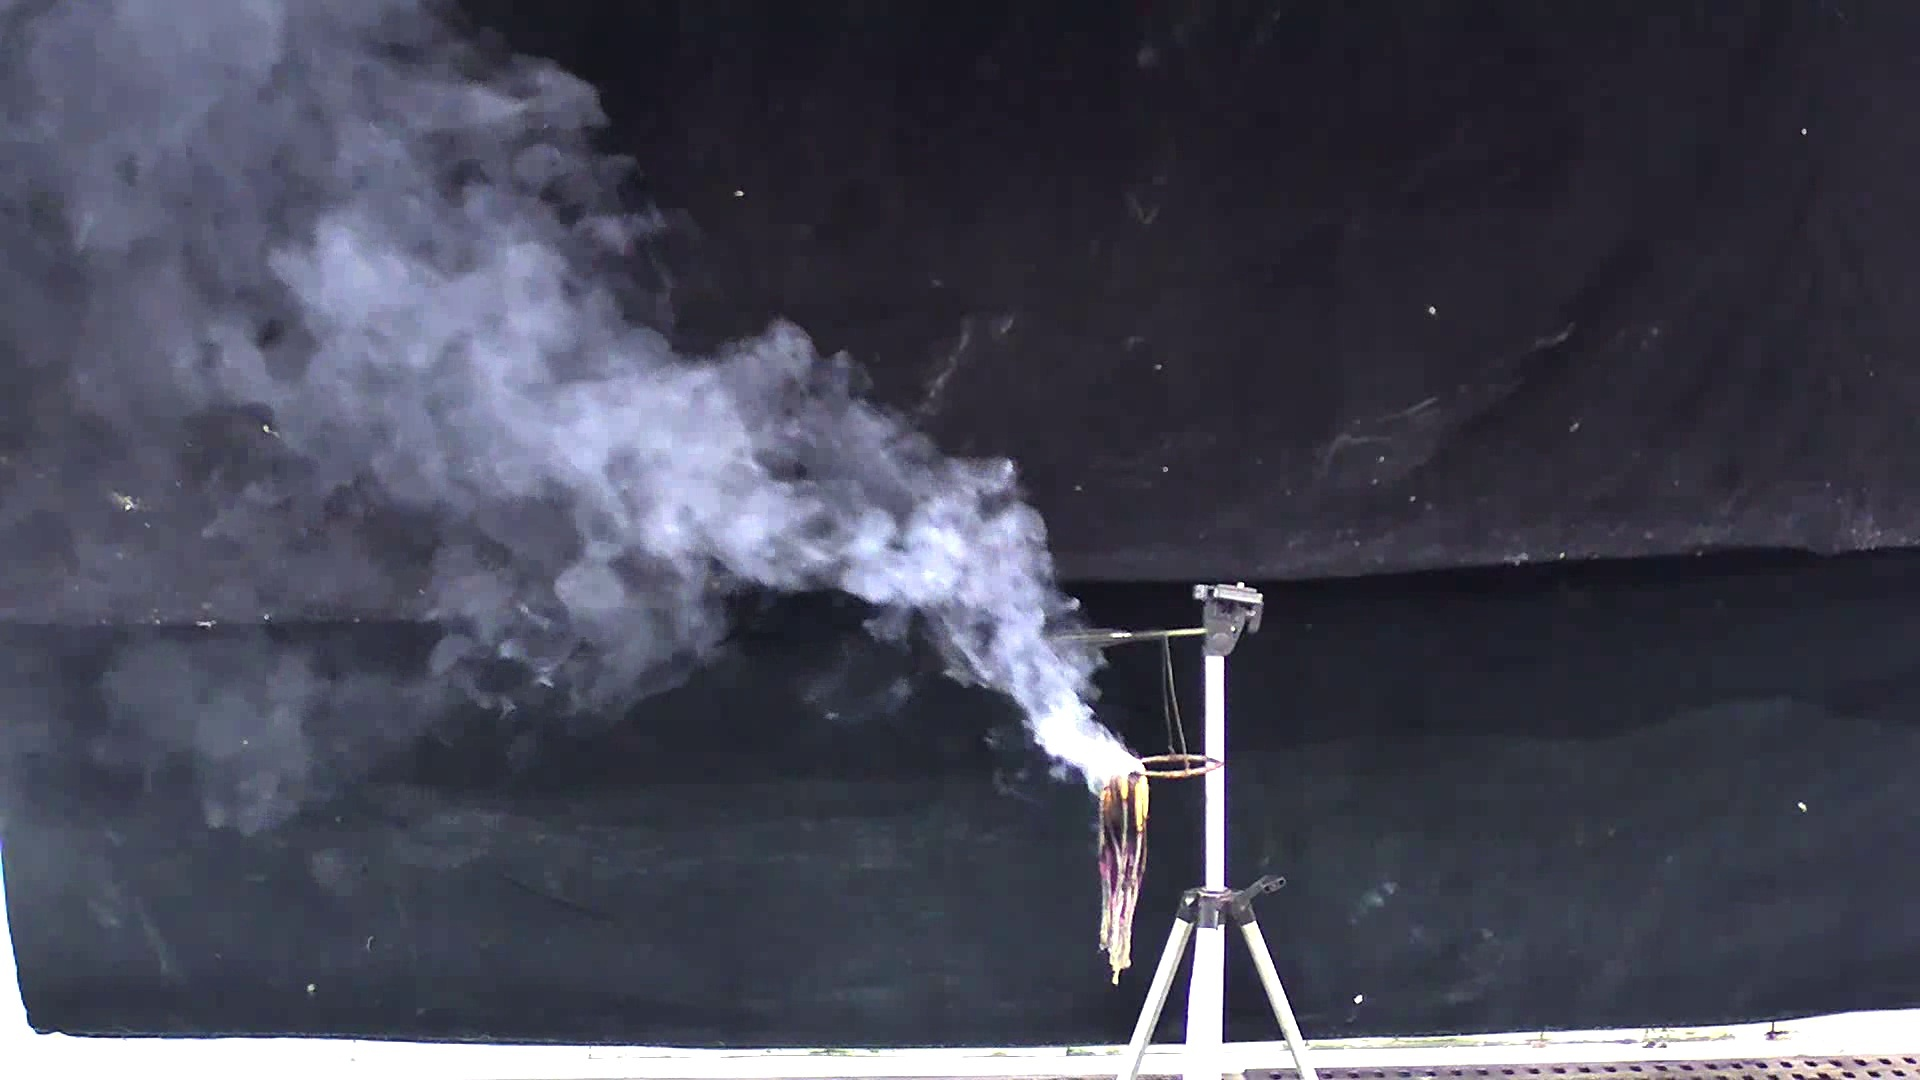smoke: (96, 124, 1125, 775)
